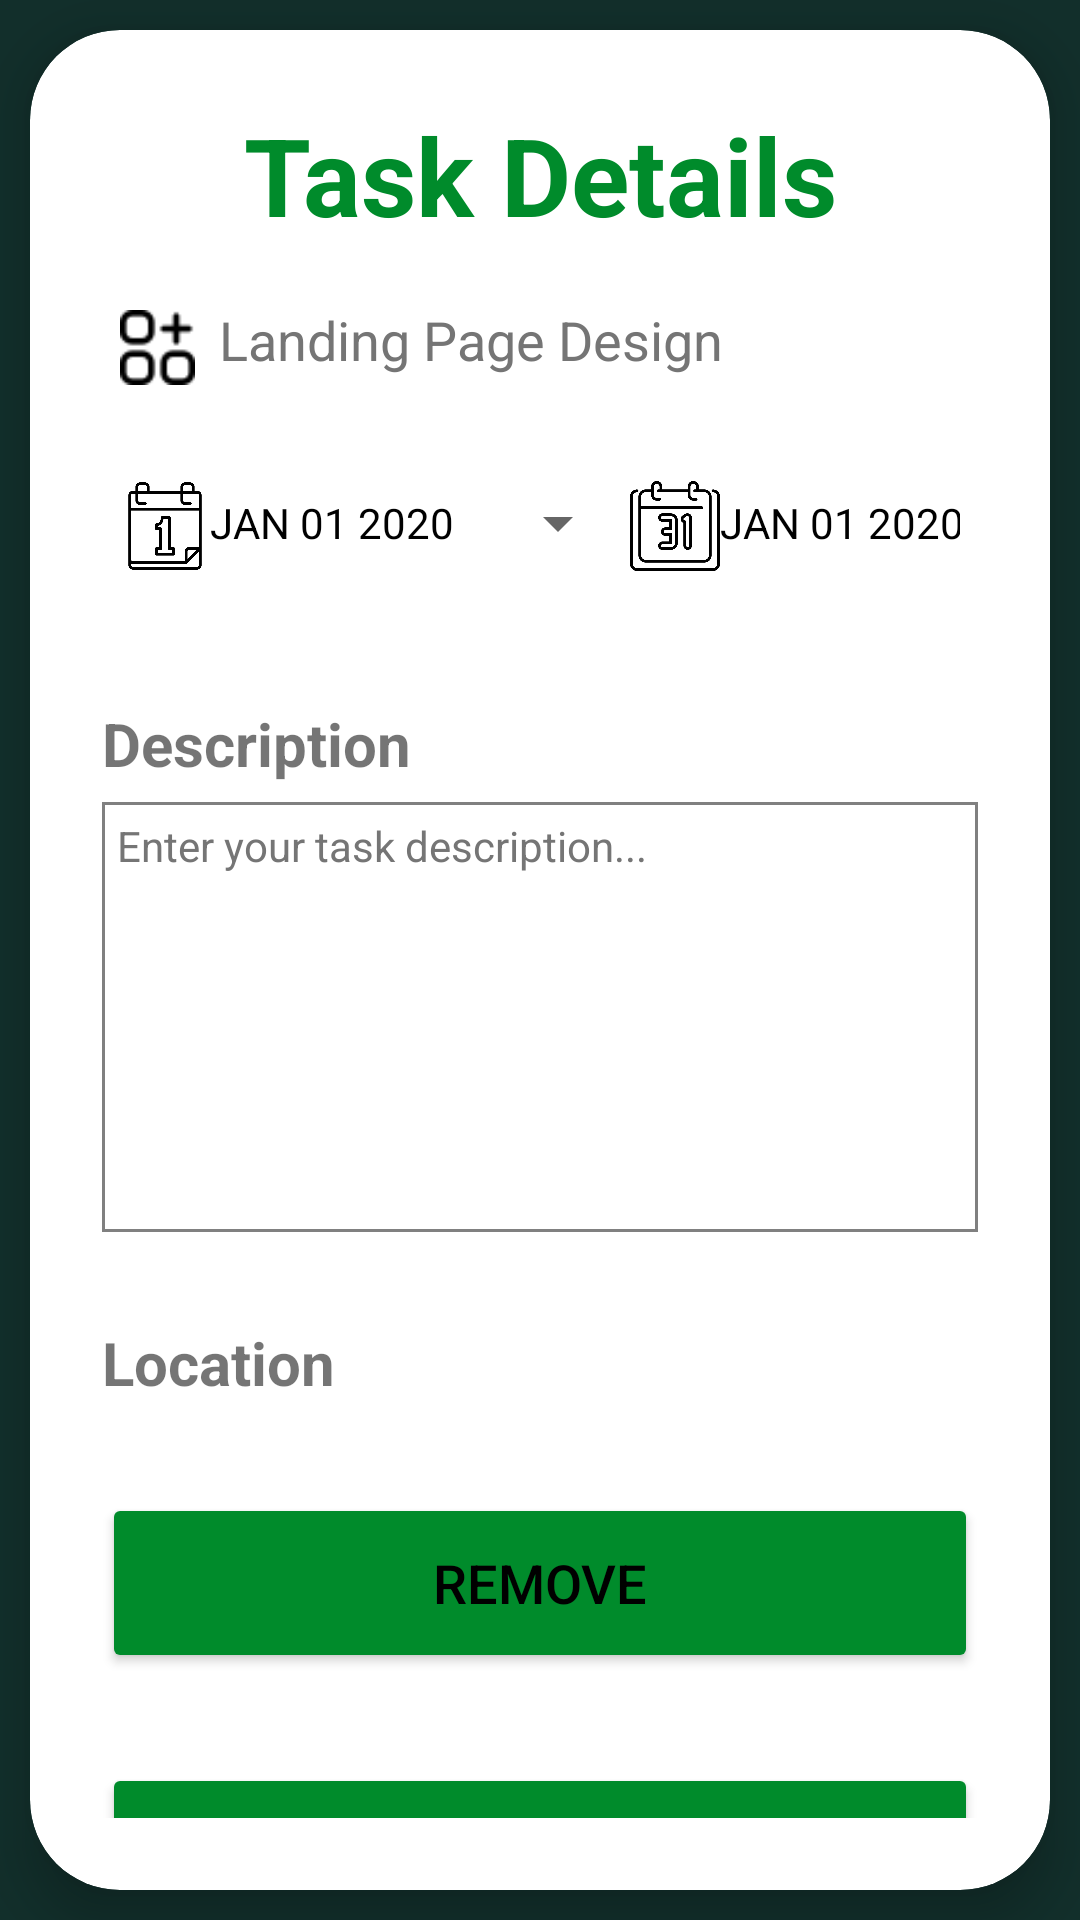

Named icons in this screenshot (1080 x 1920) and their bounding boxes, (x1, y1, x2, y2):
appsaddblack: (120, 310, 195, 385)
end date: (630, 481, 720, 571)
Start Date: (128, 482, 202, 570)
